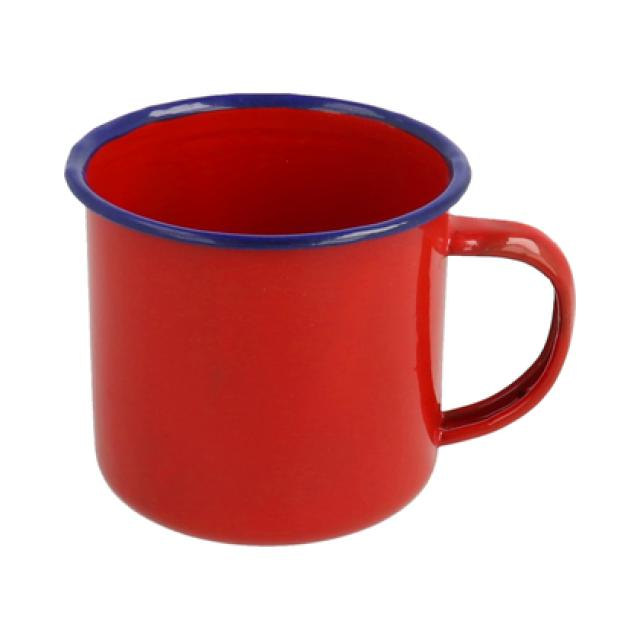Cangkir: (48, 73, 592, 567)
